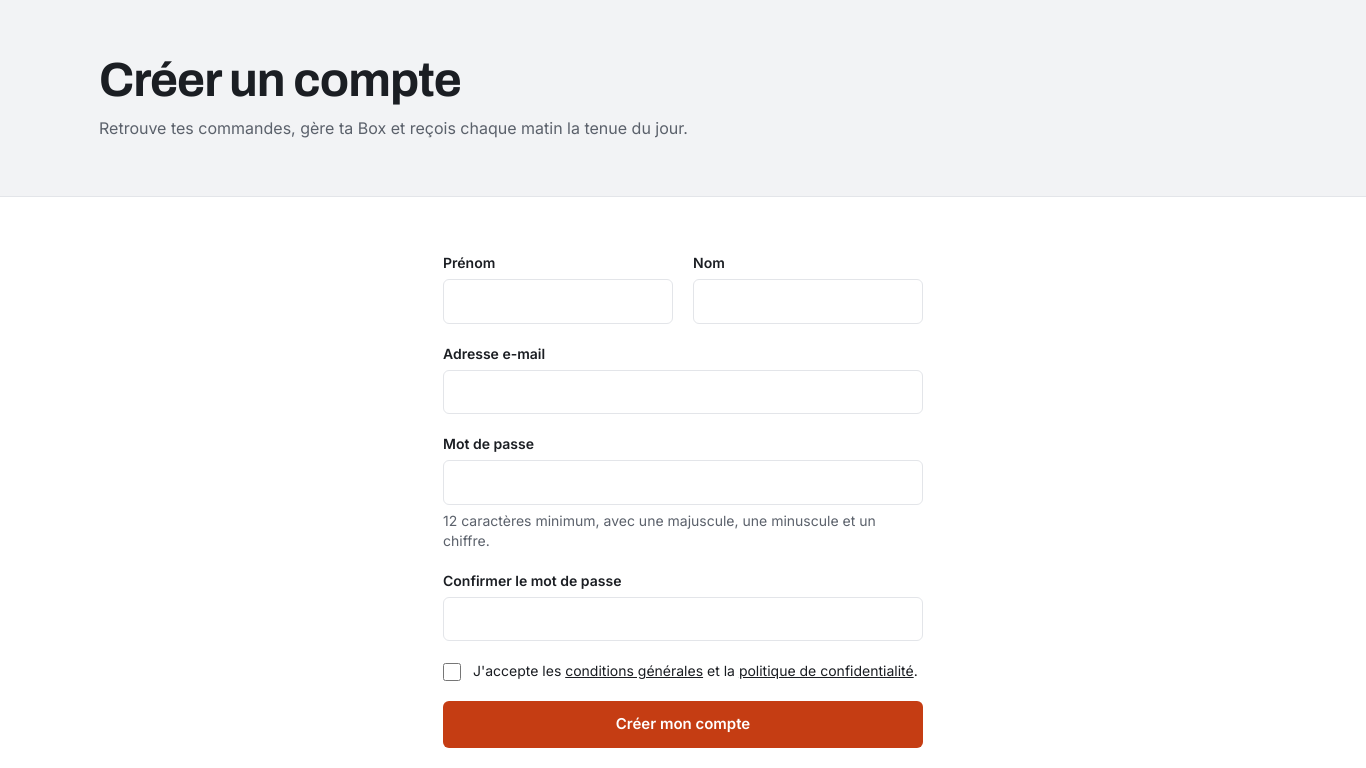
Test: Register › confirme l'inscription quand le formulaire est valide
Type "Maeva" into the field labelled "Prénom". click: (558, 301)
box: [443, 279, 673, 324]
Type "Martin" into the field labelled "Nom". click: (808, 301)
box: [693, 279, 923, 324]
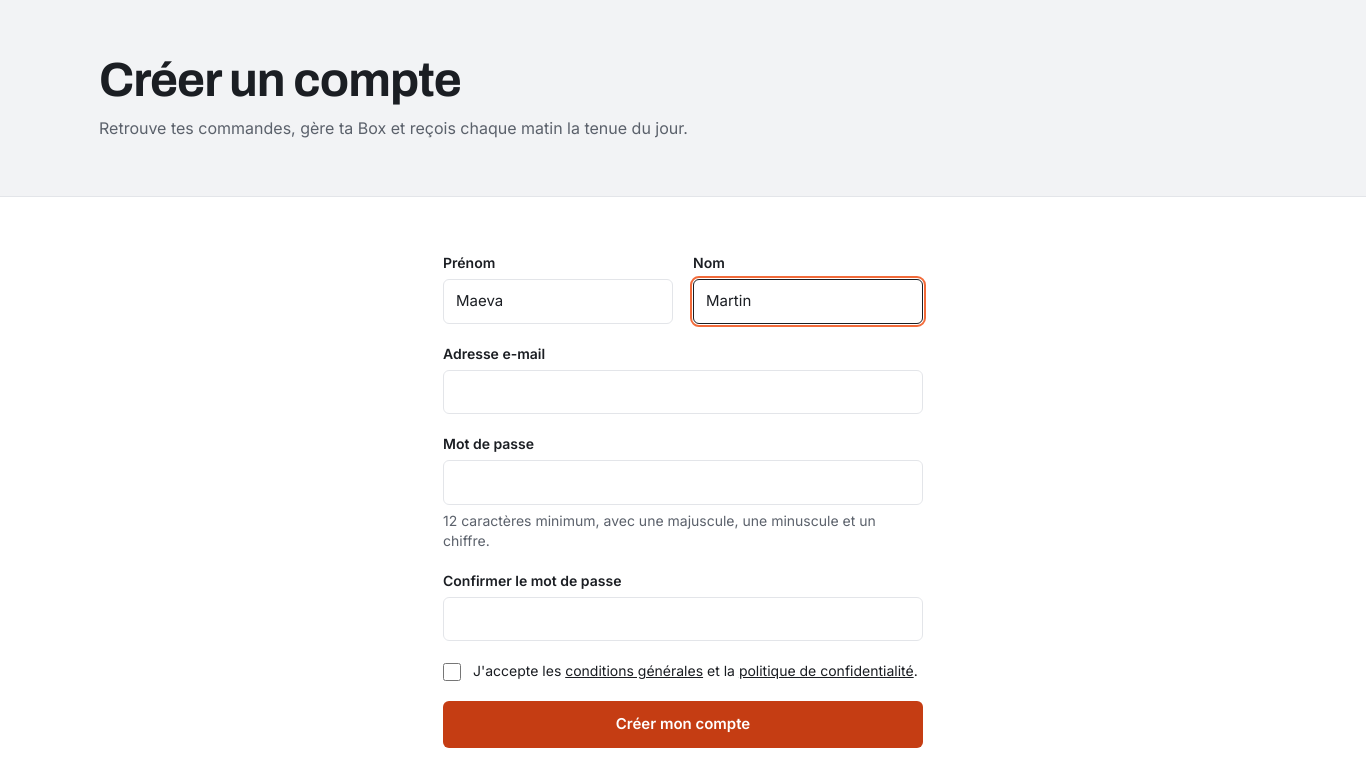
Type "maeva@exemple.fr" into the field labelled "Adresse e-mail". click: (683, 392)
box: [443, 370, 923, 414]
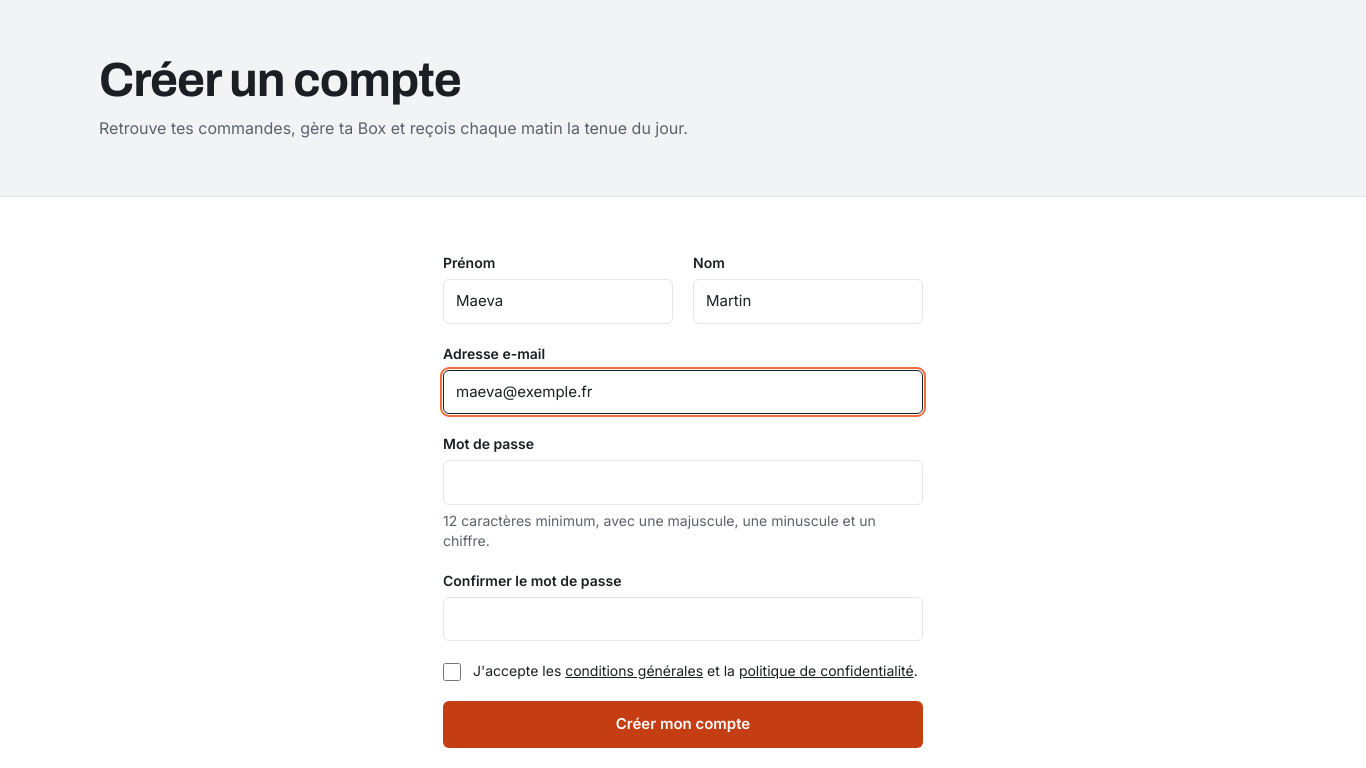
Type "MotDePasseSolide1" into the password field labelled "Mot de passe". click: (683, 482)
box: [443, 460, 923, 504]
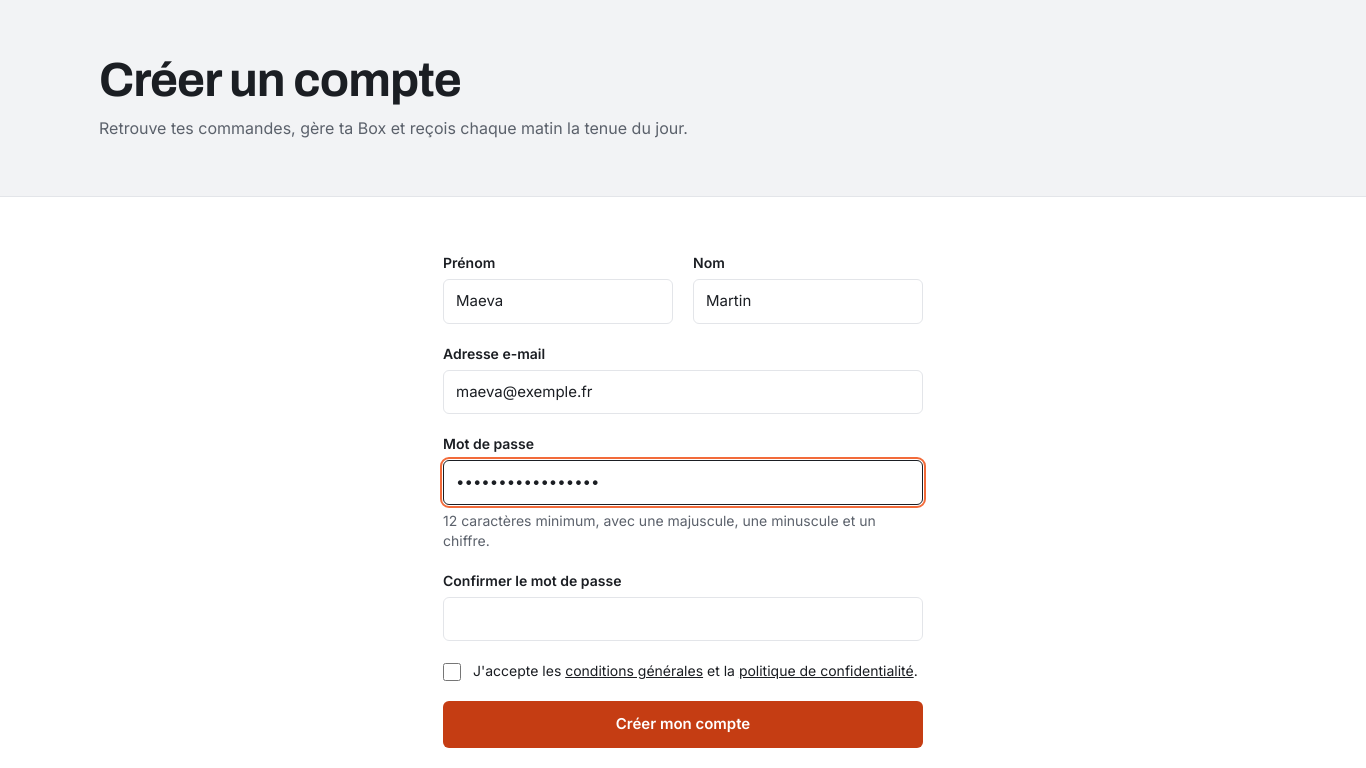
Type "MotDePasseSolide1" into the password field labelled "Confirmer le mot de passe". click: (683, 619)
box: [443, 596, 923, 641]
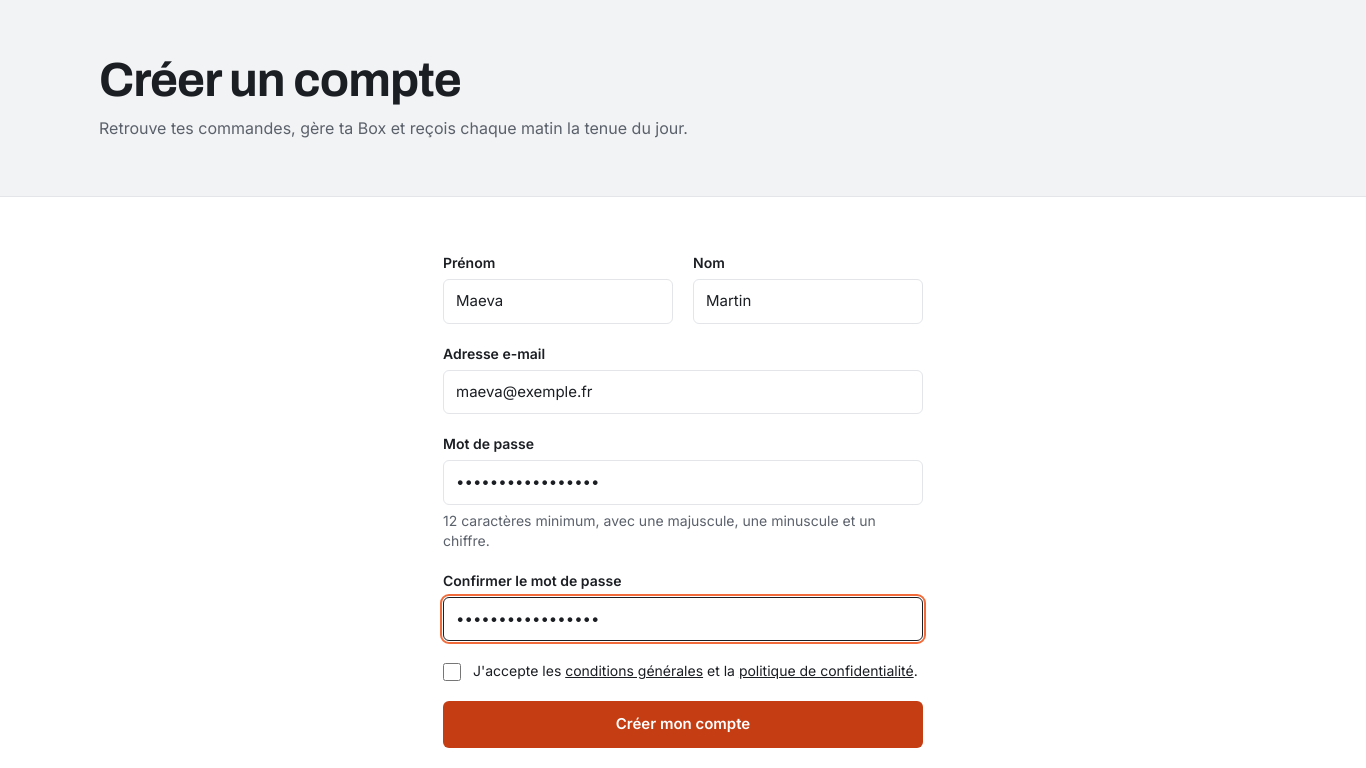
Click the checkbox. click: click(452, 672)
box: [443, 663, 461, 681]
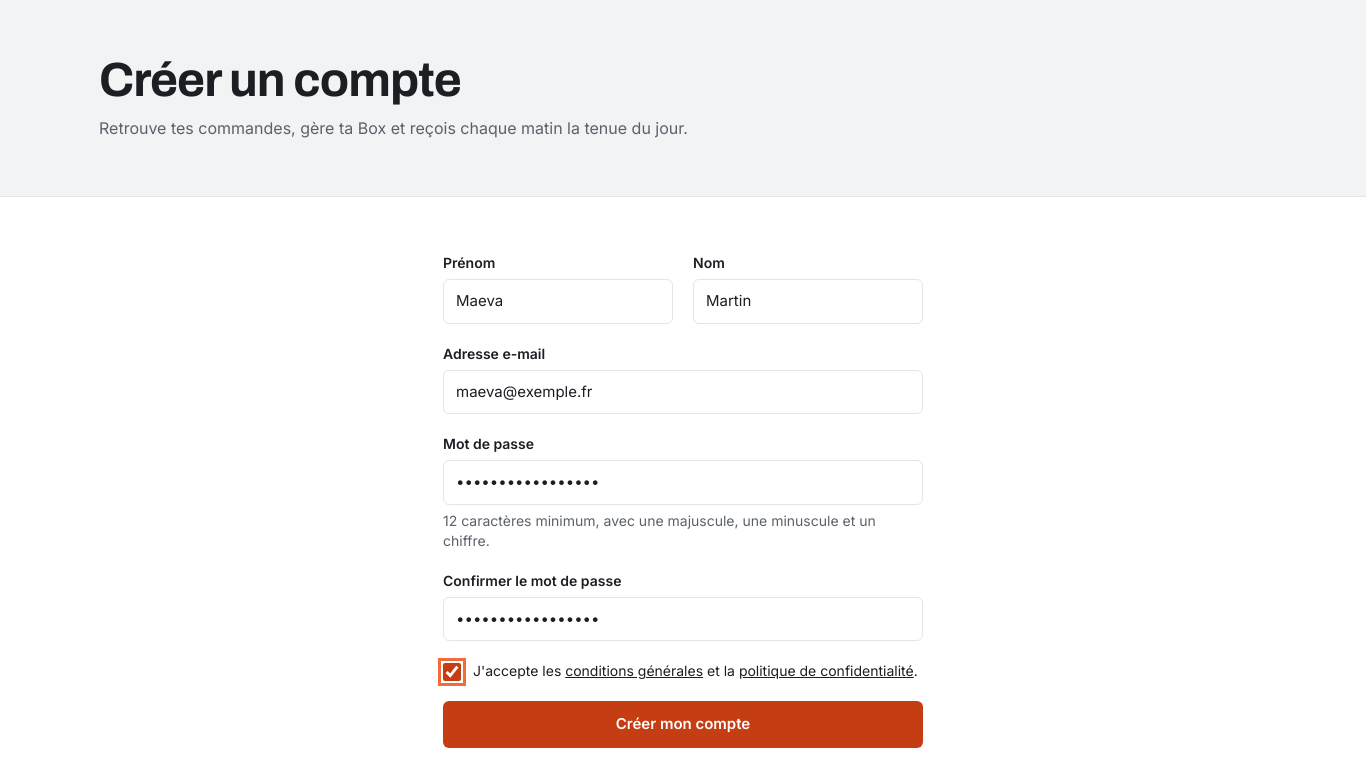
Click the button "Créer mon compte". click: click(683, 724)
box: [443, 701, 923, 748]
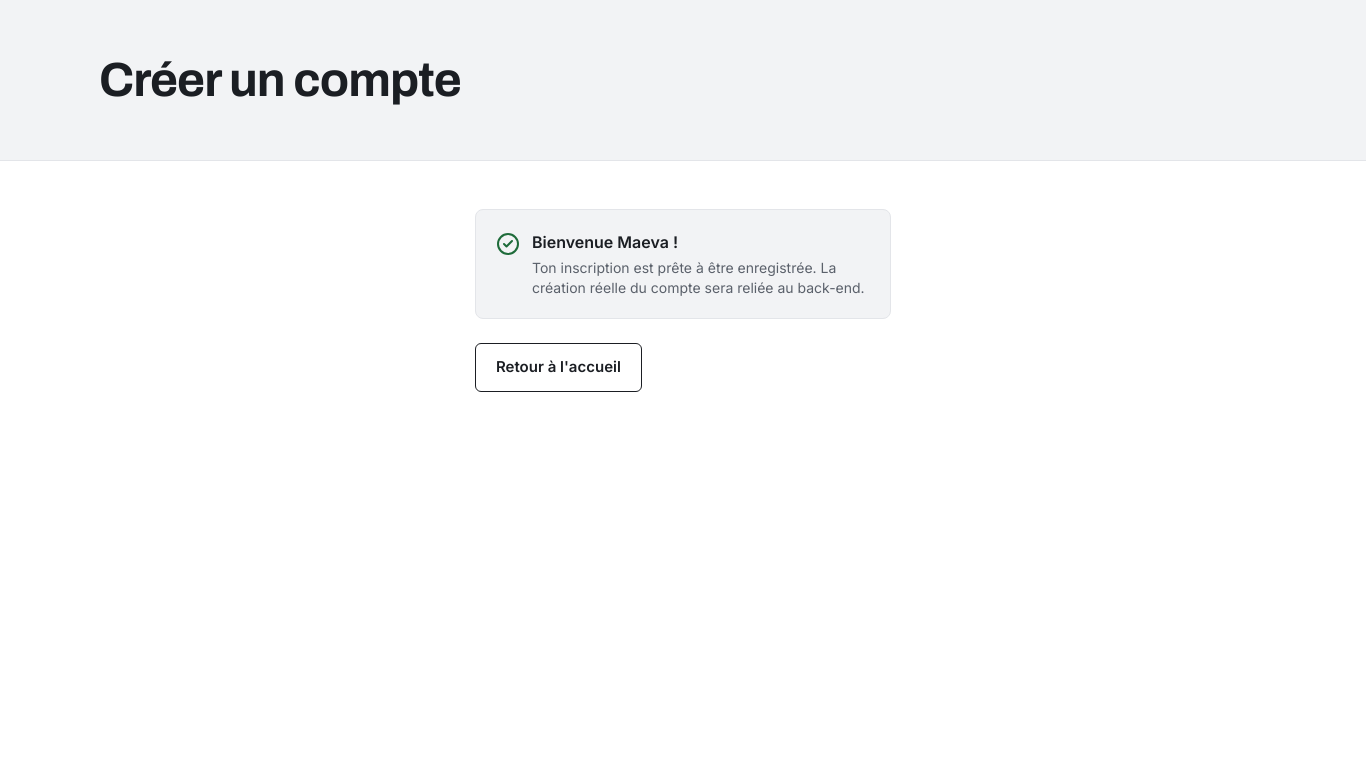
Expected: the text "Bienvenue Maeva !" is shown, [532, 232, 678, 252]
